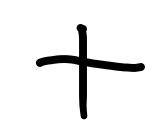plus: (34, 22, 146, 119)
